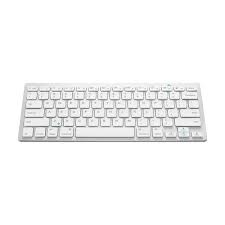keyboard: (17, 75, 215, 149)
